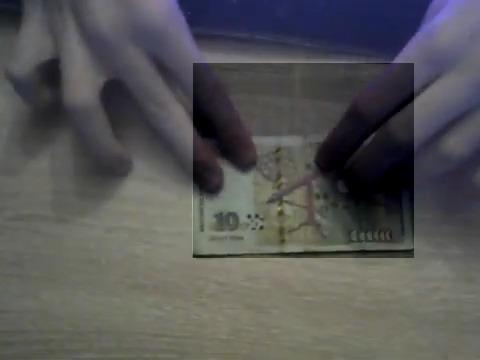10leva: (193, 63, 414, 258)
